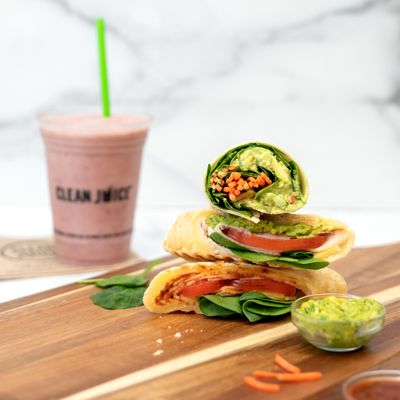sushi: (290, 293, 386, 353), (339, 370, 400, 400)
